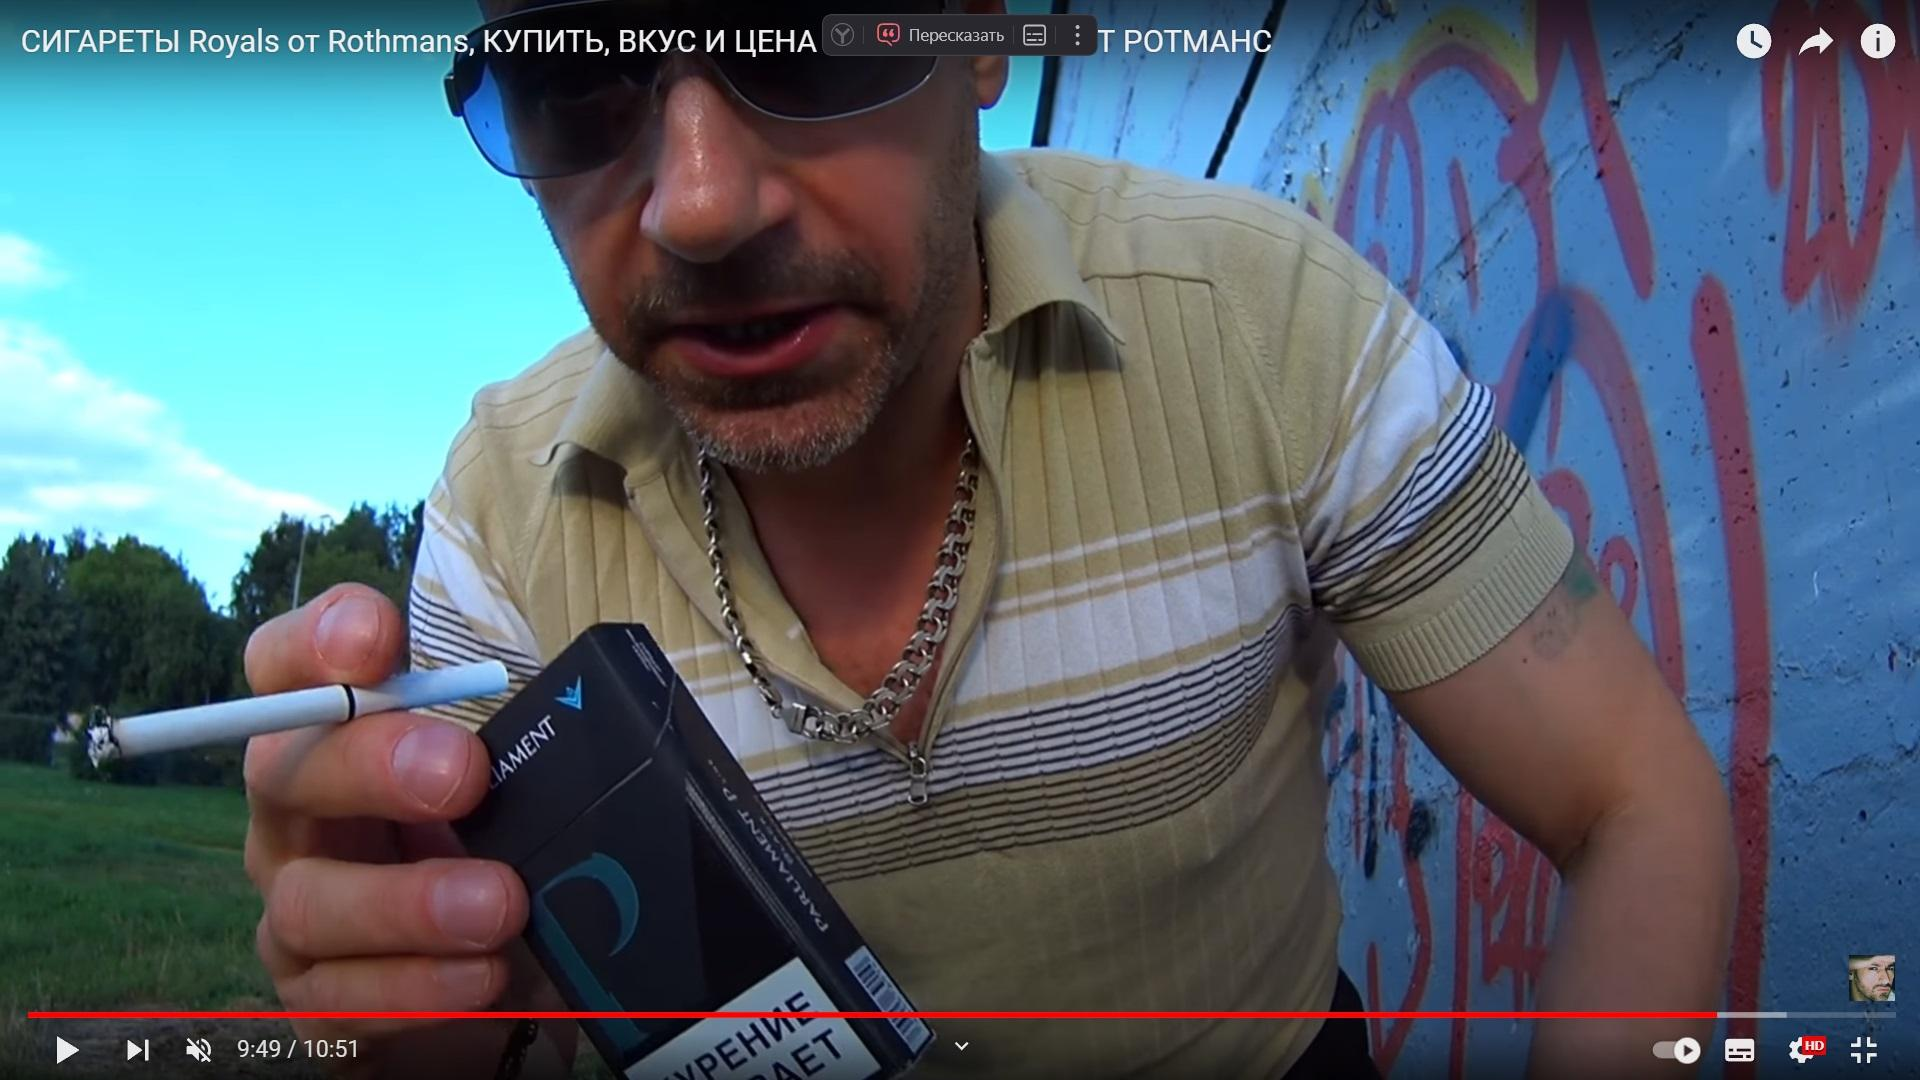cigarette: (86, 658, 510, 769)
